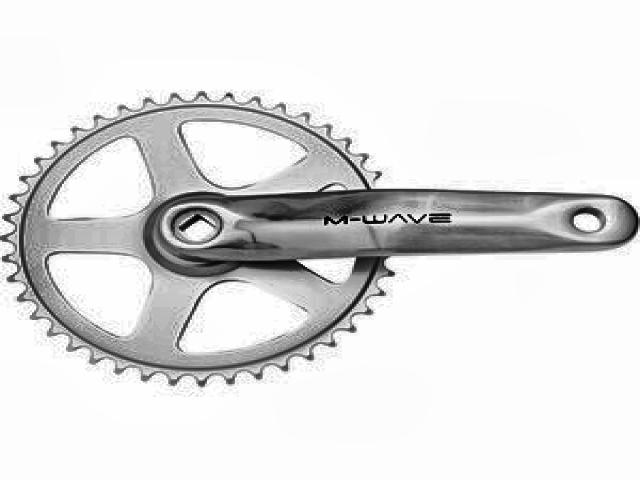cranks_set: (0, 88, 640, 390)
